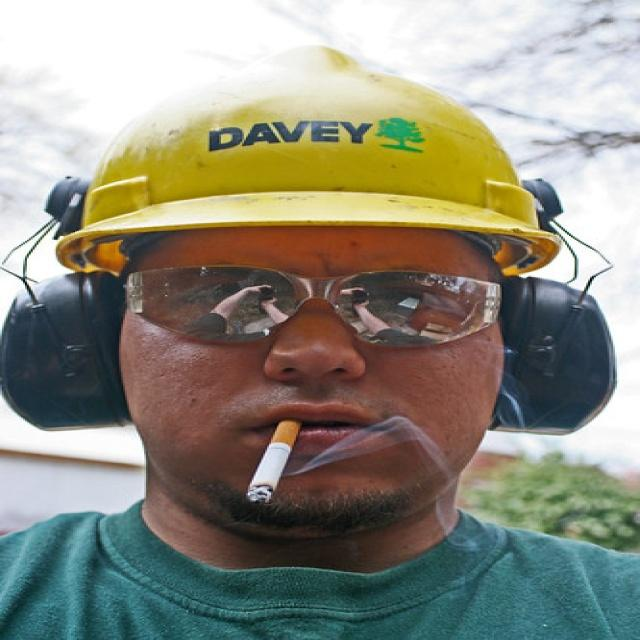helmet: (61, 57, 565, 368)
